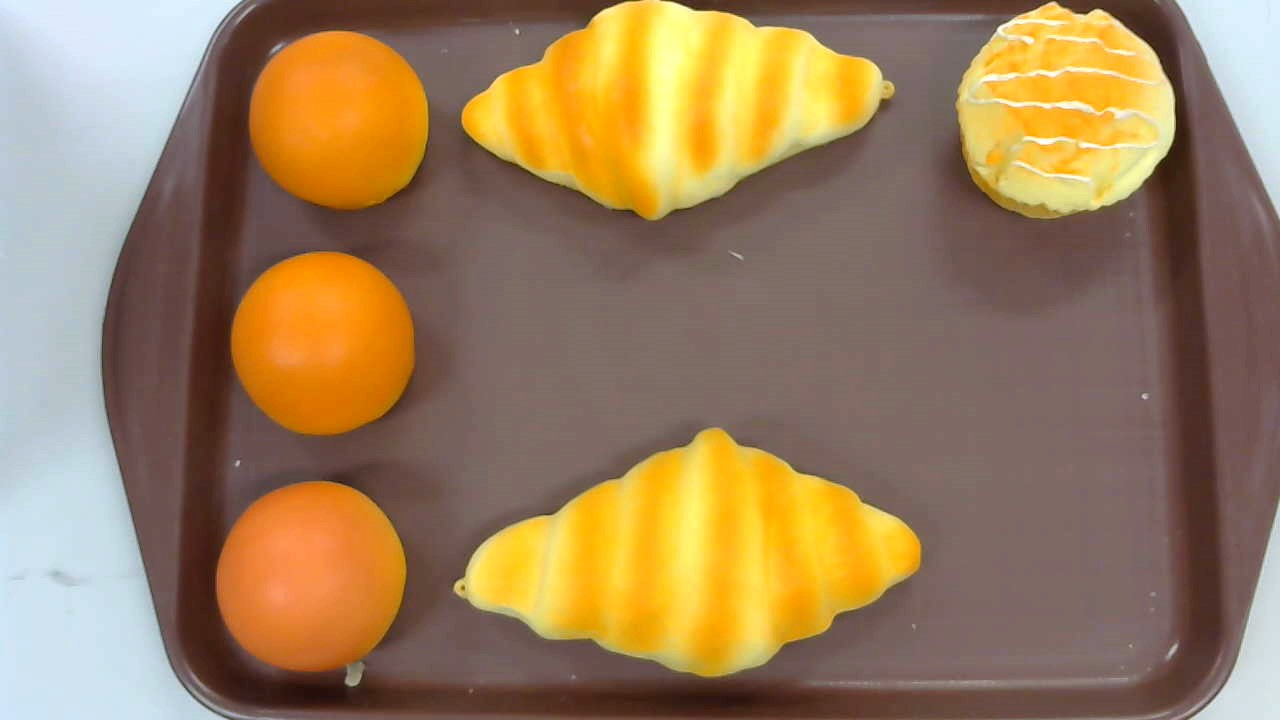bun: (216, 481, 405, 670), (229, 250, 416, 436), (249, 30, 428, 211)
croissant: (454, 424, 921, 678), (461, 1, 895, 222)
cupcake: (956, 3, 1175, 219)
